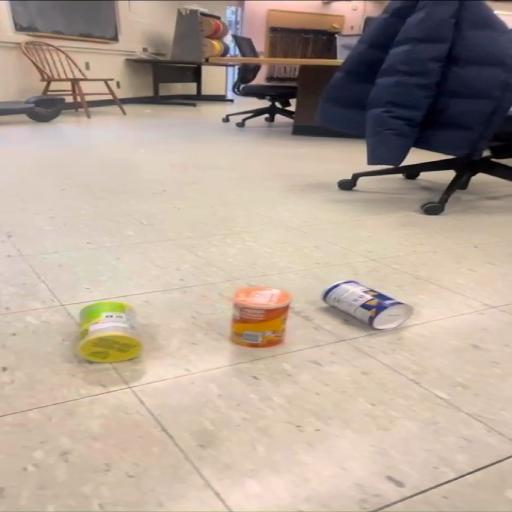pringle can: (323, 281, 412, 329), (77, 301, 141, 362), (231, 287, 291, 347)
